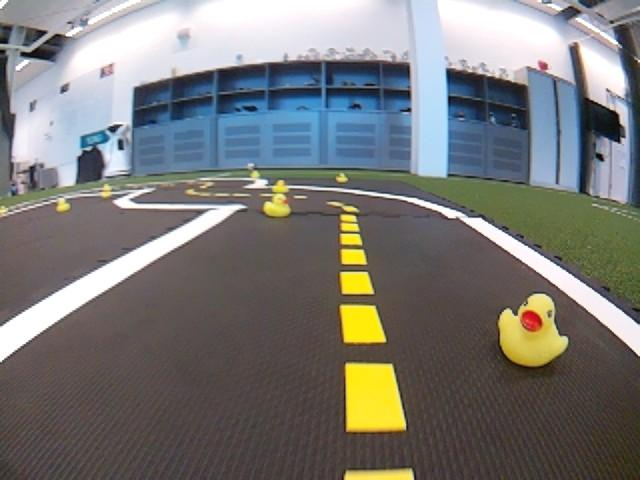Duckies: (496, 295, 568, 370), (264, 197, 292, 217), (271, 180, 288, 191), (56, 200, 70, 212), (101, 189, 114, 198), (336, 175, 348, 182), (0, 206, 7, 214), (251, 172, 260, 178)
